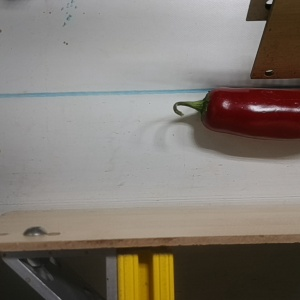Cut Point: (190, 87, 227, 132)
